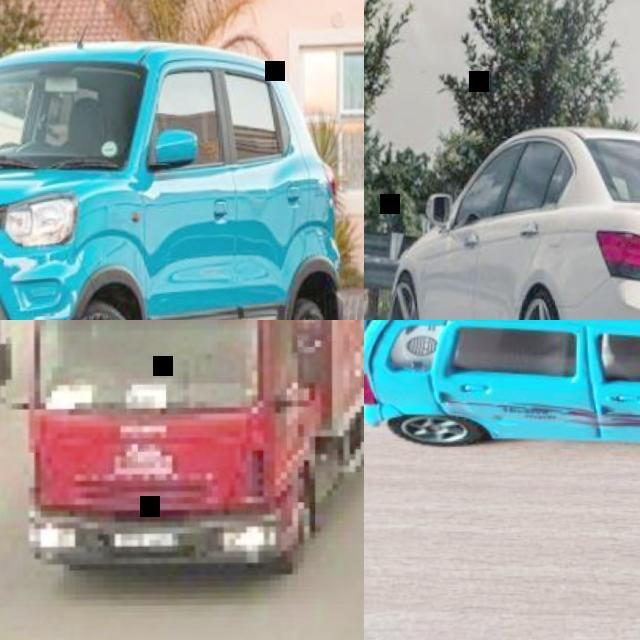car: (377, 123, 639, 594), (0, 31, 350, 319)
